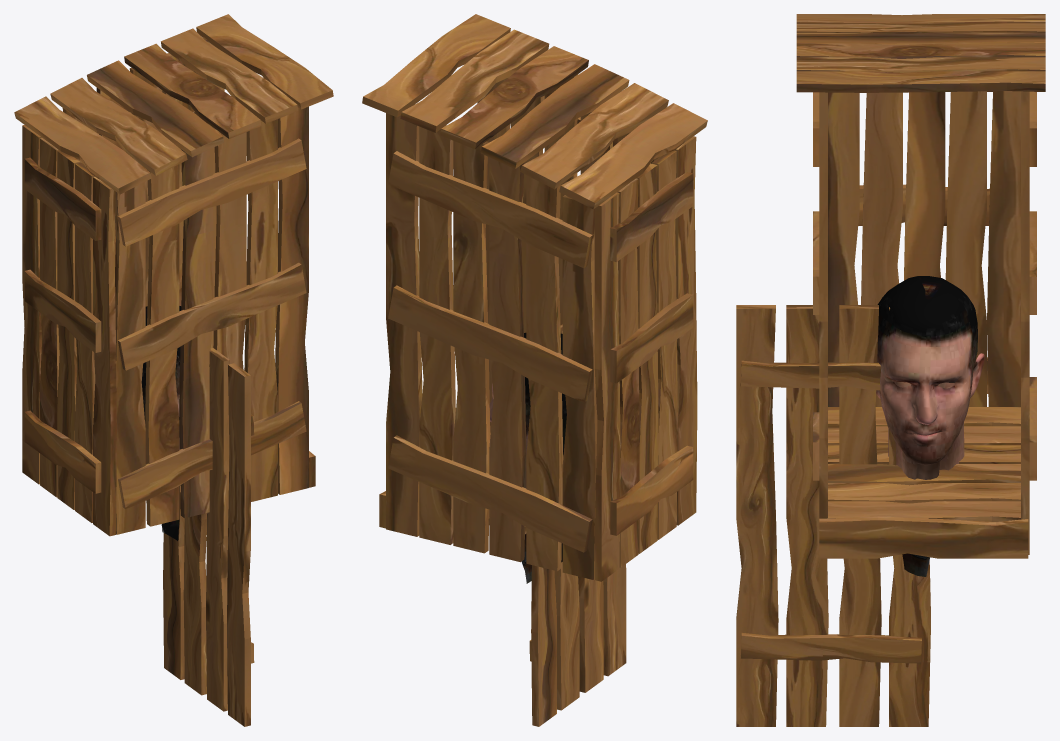
File: villageToilet.fbx
The picture shows the model from 3 angles, left to right: view 1: azimuth 30°, elevation 25°; view 2: azimuth 150°, elevation 25°; view 3: azimuth 270°, elevation 25°; orthographic projection. The views are drawn at different scales.
Visible parts, largest first — view 1: Toliet, ToiletDoor; view 2: Toliet, ToiletDoor; view 3: Toliet, ToiletDoor.
Boxes of the visible parts, x1,y1,x2,y2 form: Toliet: (14, 14, 333, 540); ToiletDoor: (163, 348, 254, 726); Toliet: (362, 14, 707, 583); ToiletDoor: (529, 324, 626, 726); Toliet: (796, 14, 1045, 576); ToiletDoor: (736, 305, 930, 726).
Bounding box in the file's own units: 93.83 × 239 × 94.79.
